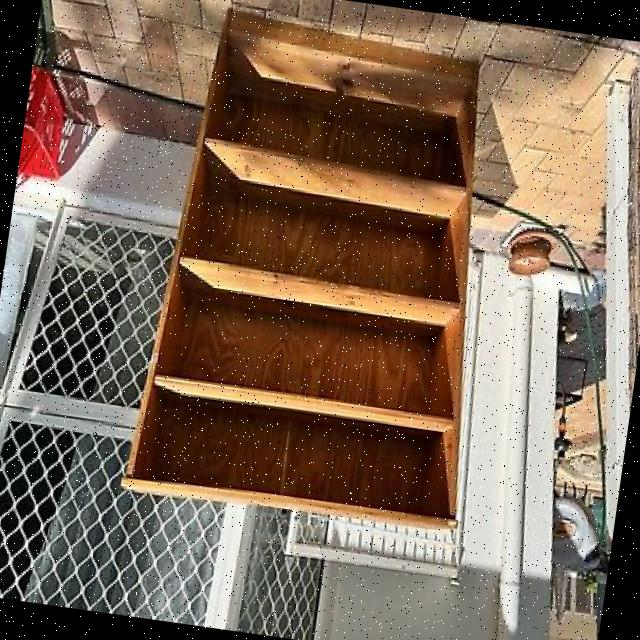Shelf: (113, 0, 528, 538)
